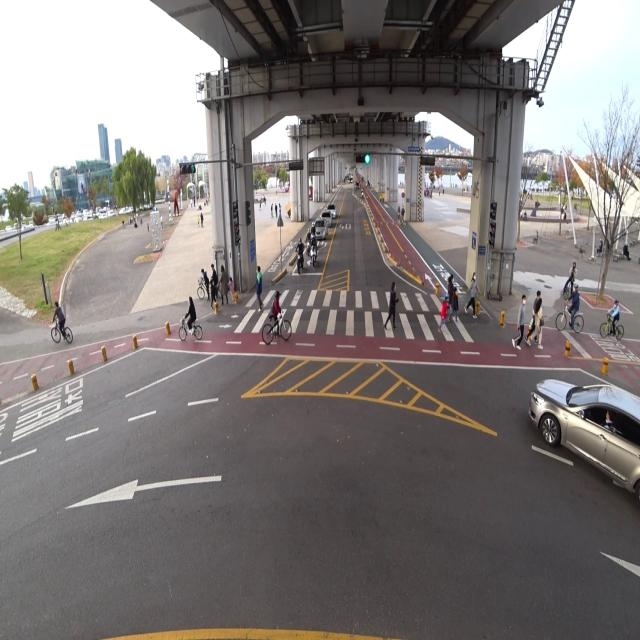Car: (527, 361, 640, 541), (312, 218, 326, 238), (328, 202, 340, 220), (322, 208, 331, 229)
Motorcycle: (295, 233, 305, 276), (308, 233, 319, 268)
